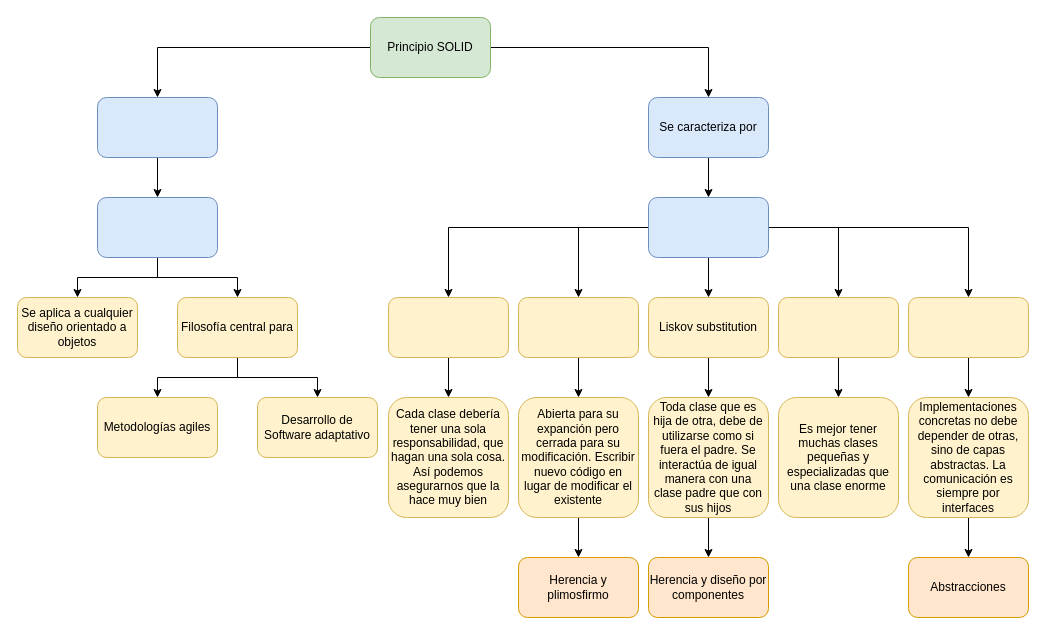
Some shapes in this 1046 by 635 pixel diagram are drawn without their labels. Each missing label, with the centre of its shape:
"Dependency inversion" belongs at point (968, 327).
"Interface segregation" belongs at point (838, 327).
"Manejar el diseño de Software, haciéndolo más entendible, flexible y mantenible" belongs at point (157, 227).
"Open/close" belongs at point (578, 327).
"S.O.L.I.D" belongs at point (708, 227).
"Single responsability" belongs at point (448, 327).
"Sirve para" belongs at point (157, 127).
